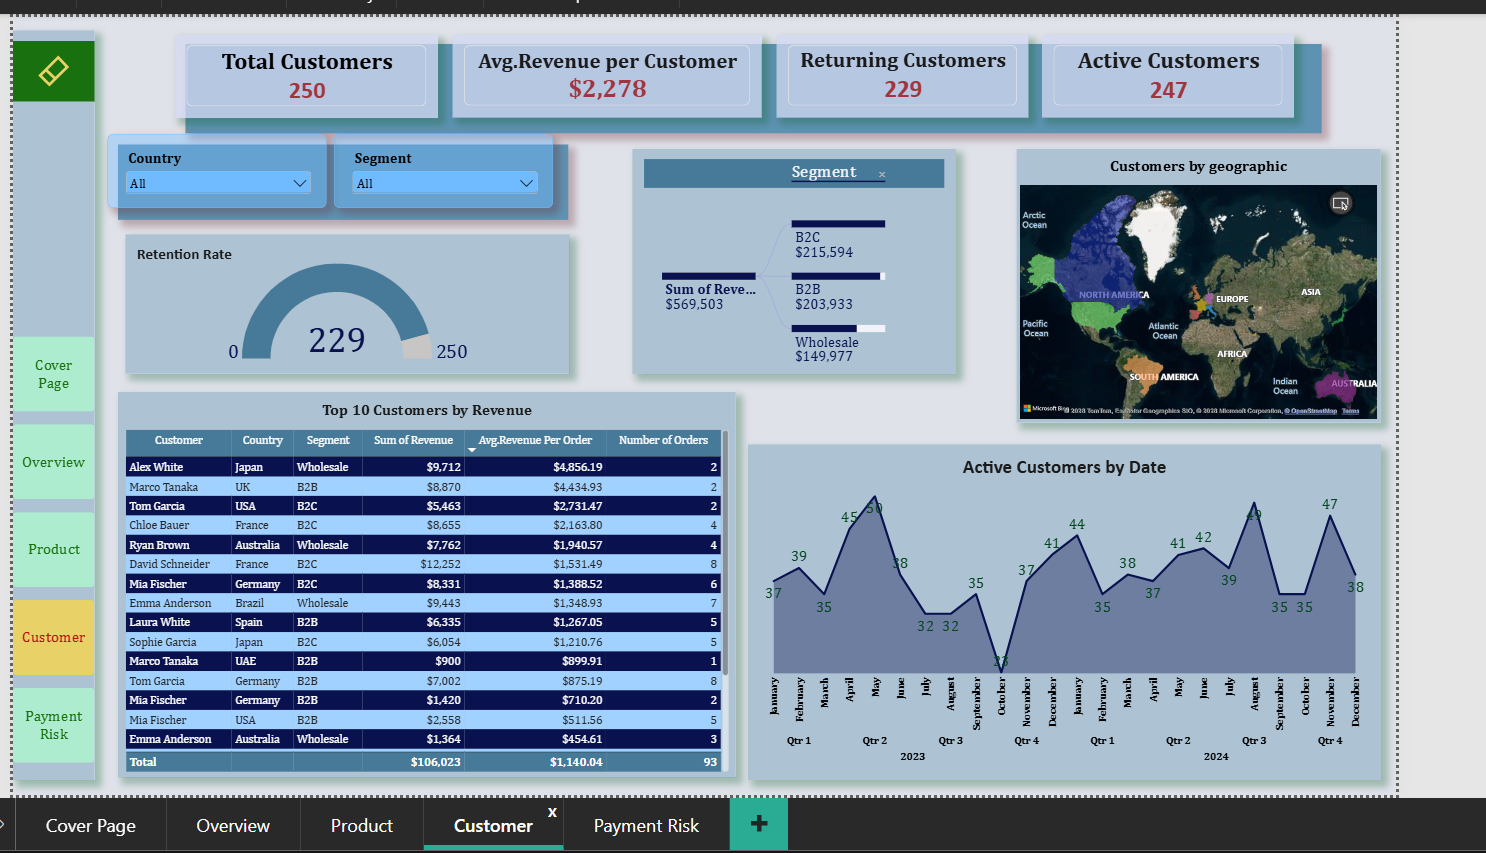

This screenshot's page, from the dashboard's own definition file:
{"tool":"powerbi","page":{"name":"Customer","canvas":[1920,1080],"ordinal":3},"visuals":[{"type":"shape","box":[0,18.9,113.7,1041.4],"z":0,"group":"g2"},{"type":"shape","box":[239.2,37.8,1578.1,123.8],"z":0,"group":"g3"},{"type":"shape","box":[146.9,176.3,625.3,104.9],"z":0,"group":"g4"},{"type":"decompositionTreeVisual","title":"Revenue by Segment","fields":{"Analyze":["Sum(Orders.Revenue)"],"ExplainBy":["Customers.Segment"]},"box":[860.4,182.6,449.1,312.7],"z":0},{"type":"tableEx","title":"Top 10 Customers by Revenue","fields":{"Values":["Customers.Customer","Geo.Country","Customers.Segment","Orders.Revenue","Calculation.Avg.Revenue Per Order","Calculation.Number of Orders"]},"box":[144.8,520.4,858.3,535.1],"z":1000},{"type":"slicer","fields":{"Values":["Geo.Country"]},"box":[132.2,161.6,304.3,102.8],"z":1500,"group":"g4"},{"type":"cardVisual","fields":{"Data":["Calculation.Returning Customers"]},"box":[1059,26.1,350,114.5],"z":2000,"group":"g3"},{"type":"filledMap","title":"Customers by geographic","fields":{"Category":["Geo.Country","Geo.Region","Geo.City"],"Series":["Customers.Customer"]},"box":[1393.4,182.6,505.7,379.8],"z":2000},{"type":"cardVisual","fields":{"Data":["Customers.AVG Revenue"]},"box":[609.6,26.1,429.4,114.5],"z":3000,"group":"g3"},{"type":"areaChart","title":"Active Customers by Date","fields":{"Category":["Orders.OrderDate.Variation.Date Hierarchy.Year","Orders.OrderDate.Variation.Date Hierarchy.Quarter","Orders.OrderDate.Variation.Date Hierarchy.Month"],"Y":["Calculation.Active Customers"]},"box":[1019.9,593.9,879.3,465.9],"z":3000},{"type":"cardVisual","fields":{"Data":["Calculation.Total Customers"]},"box":[224.5,25.2,365.1,115.4],"z":4000,"group":"g3"},{"type":"cardVisual","fields":{"Data":["Calculation.Active Customers"]},"box":[1429,26.1,350,114.5],"z":4000,"group":"g3"},{"type":"group","id":"g1","title":"Group 3","box":[0,18.9,113.3,1040.9],"z":5000},{"type":"group","id":"g2","title":"Group 2","box":[0,18.9,113.3,1040.9],"z":5000,"group":"g1"},{"type":"group","id":"g3","title":"Group 1","box":[224.5,25.2,1592.8,136.4],"z":5001},{"type":"actionButton","box":[0,33.4,113,84],"z":5001,"group":"g2"},{"type":"slicer","fields":{"Values":["Customers.Segment"]},"box":[447,161.6,304.3,102.8],"z":5002,"group":"g4"},{"type":"group","id":"g4","title":"Group 4","box":[132.2,161.6,640,119.6],"z":5003},{"type":"gauge","title":"Retention Rate","fields":{"MaxValue":["Calculation.Total Customers"],"Y":["Calculation.Returning Customers"]},"box":[155.3,302.2,617,193.1],"z":5004},{"type":"pageNavigator","box":[0,443,113.3,596],"z":5500,"group":"g1"}]}

Visuals, with their boxes on the page's 1920x1080 design canvas (x1, y1, x2, y2). These are canvas units, not pixel positions in the 1486x853 screenshot, which may show the page scaled, cropped or inside an application window:
shape: (0, 19, 114, 1060)
shape: (239, 38, 1817, 162)
shape: (147, 176, 772, 281)
"Revenue by Segment" decompositionTreeVisual: (860, 183, 1310, 495)
"Top 10 Customers by Revenue" tableEx: (145, 520, 1003, 1056)
slicer - Geo.Country: (132, 162, 436, 264)
cardVisual - Calculation.Returning Customers: (1059, 26, 1409, 141)
"Customers by geographic" filledMap: (1393, 183, 1899, 562)
cardVisual - Customers.AVG Revenue: (610, 26, 1039, 141)
"Active Customers by Date" areaChart: (1020, 594, 1899, 1060)
cardVisual - Calculation.Total Customers: (224, 25, 590, 141)
cardVisual - Calculation.Active Customers: (1429, 26, 1779, 141)
"Group 3" group: (0, 19, 113, 1060)
"Group 2" group: (0, 19, 113, 1060)
"Group 1" group: (224, 25, 1817, 162)
actionButton: (0, 33, 113, 117)
slicer - Customers.Segment: (447, 162, 751, 264)
"Group 4" group: (132, 162, 772, 281)
"Retention Rate" gauge: (155, 302, 772, 495)
pageNavigator: (0, 443, 113, 1039)
